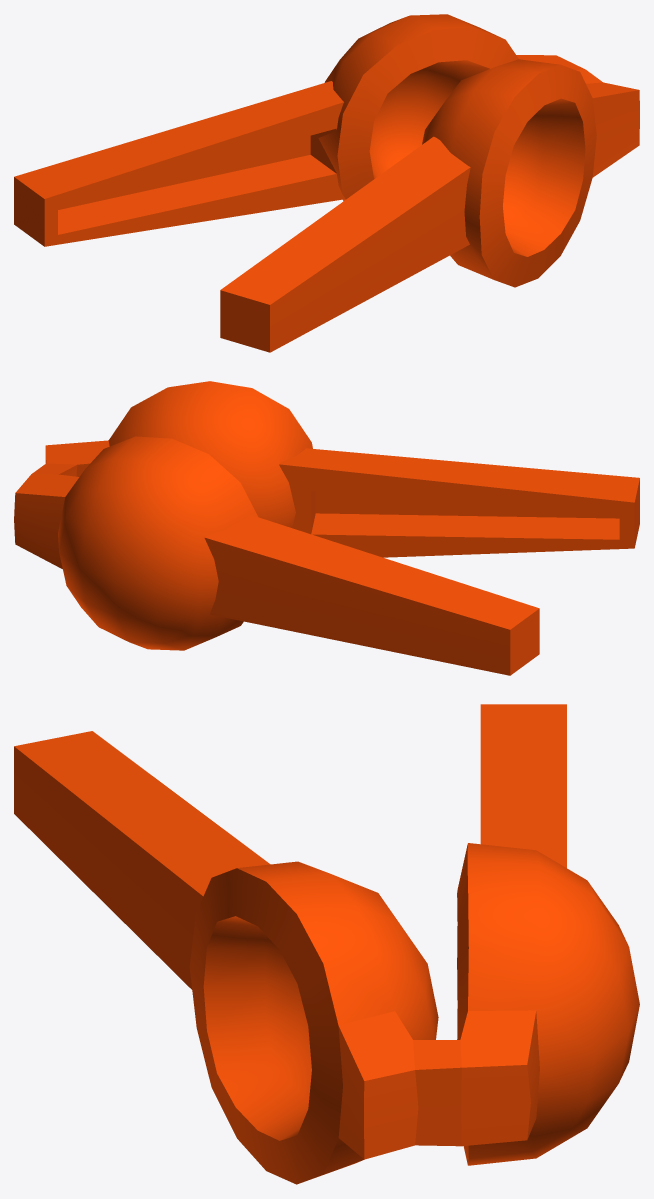
The model's file is EXPRIMIDOR_PRP 1.fbx.
3 views of the same model, one above another, from view 1: azimuth 30°, elevation 25°; view 2: azimuth 150°, elevation 25°; view 3: azimuth 270°, elevation 25° (orthographic). The views are drawn at different scales.
Visible parts, largest first — view 1: EXPRIMIDOR_PRP; view 2: EXPRIMIDOR_PRP; view 3: EXPRIMIDOR_PRP.
Part boxes in pixels (<box>): EXPRIMIDOR_PRP: <box>14,14,639,352</box>; EXPRIMIDOR_PRP: <box>14,381,639,675</box>; EXPRIMIDOR_PRP: <box>14,704,639,1184</box>.
Size of the model in its own units: 20.95 by 7.39 by 14.48.
